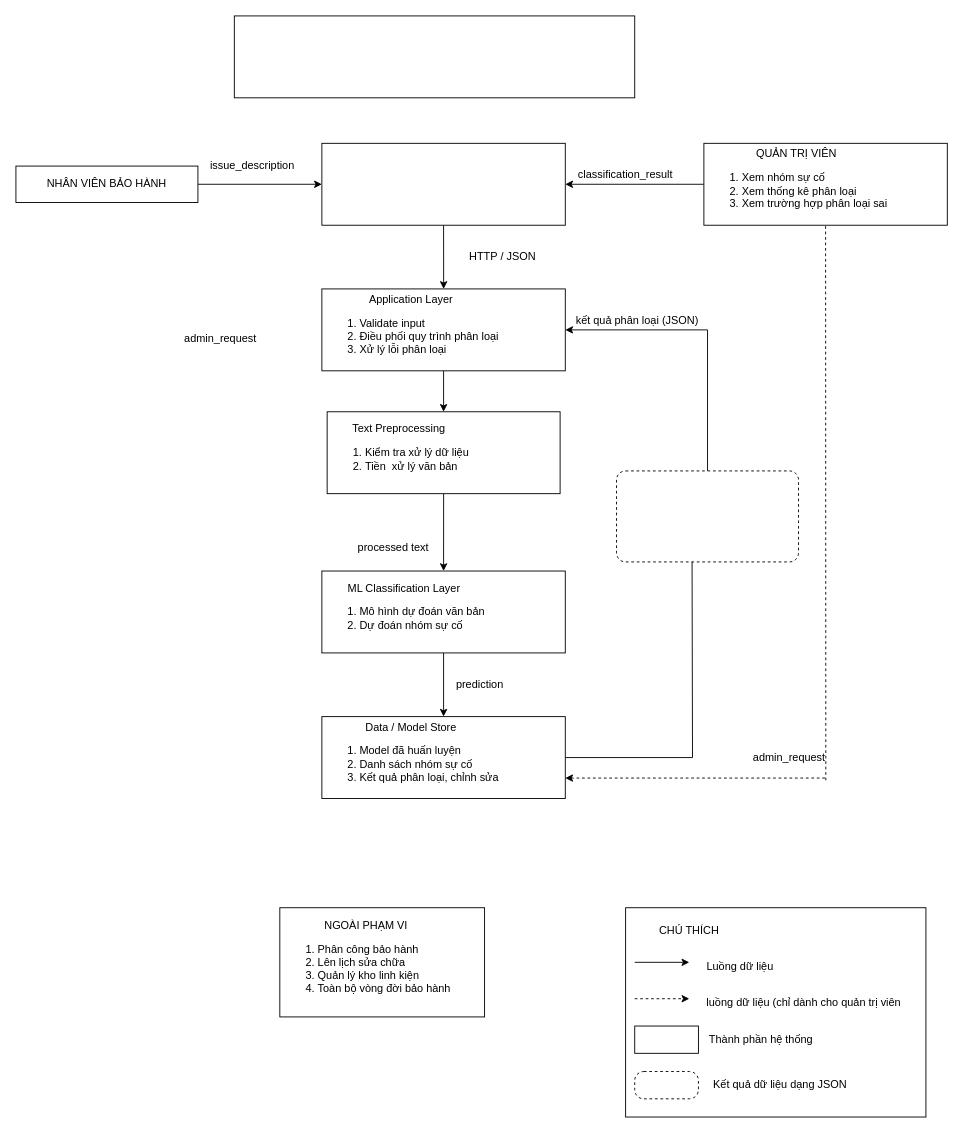
The diagram is 964 pixels wide and 1133 high, and some of its shapes have lost their labels. The shapes that lost their labels are listed below. From the top down, each one's centre as x and y in pixels, then its label:
At point 434,56: "SƠ ĐỒ KIẾN TRÚC HỆ THỐNG PHÂN LOẠI TỰ ĐỘNG YÊU CẦU BẢO HÀNH".
At point 443,183: "Presentation Layer Nhập mô tả lỗi Hiển thị kết quả Cho phép chỉnh sửa nhóm sự cố".
At point 707,516: "Classification Result predicted_category classification_status Corected_category".
